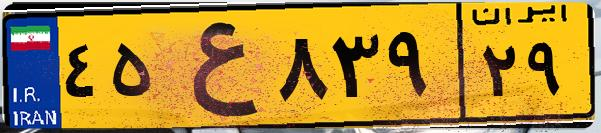2: (475, 38, 525, 113)
3: (330, 28, 385, 110)
4: (57, 26, 110, 100)
5: (110, 28, 158, 98)
8: (270, 28, 330, 110)
9: (385, 28, 445, 110), (525, 38, 570, 115)
ع: (158, 12, 270, 120)
